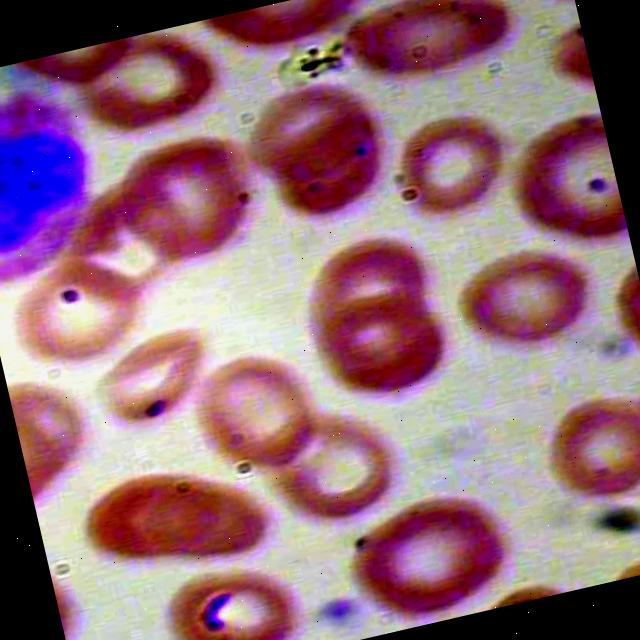RBC: (331, 474, 534, 634), (254, 388, 418, 540), (176, 335, 341, 486), (0, 234, 158, 386), (112, 120, 270, 271), (498, 97, 632, 268), (446, 231, 603, 370), (85, 306, 242, 445), (312, 275, 468, 414), (290, 210, 444, 334), (256, 102, 404, 230), (232, 59, 380, 187), (378, 93, 516, 226), (334, 0, 524, 91), (70, 456, 209, 580), (144, 454, 282, 578), (160, 536, 323, 640), (539, 384, 640, 508)
WBC: (0, 70, 116, 302)
